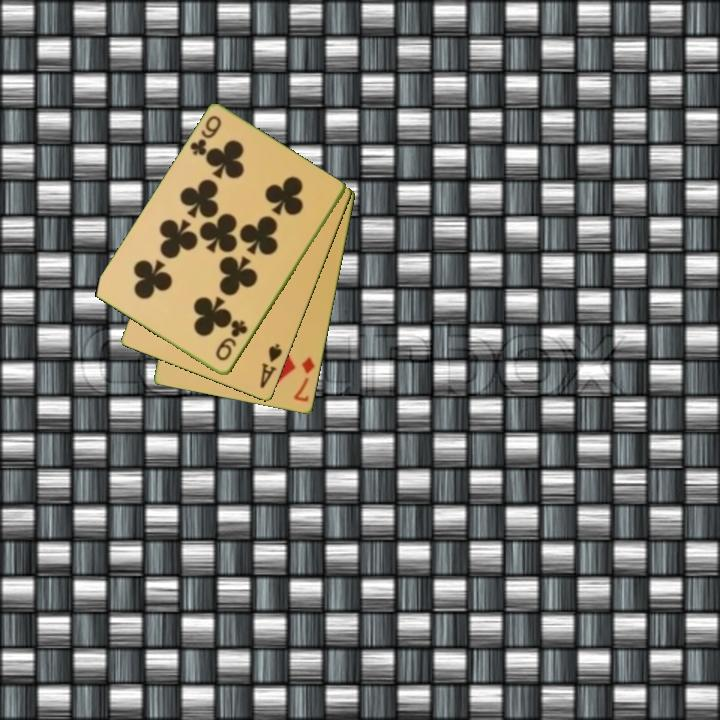7d: (290, 354, 318, 405)
9c: (212, 317, 251, 364), (186, 112, 224, 159)
As: (257, 340, 285, 392)
